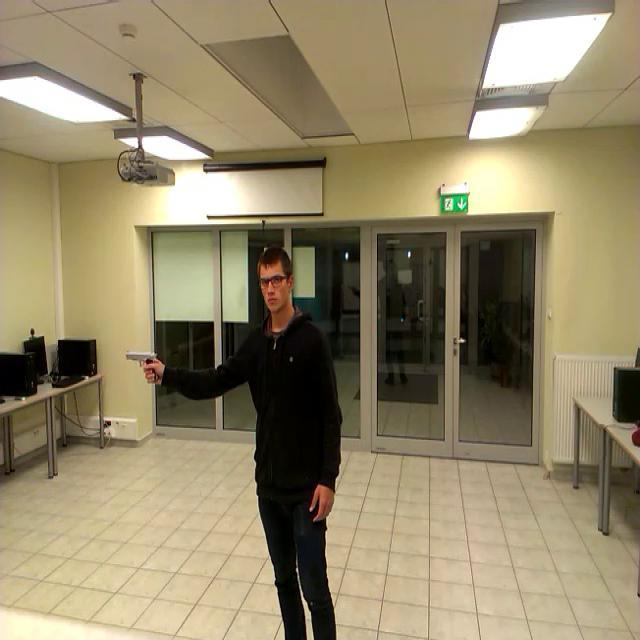Gun: (124, 351, 158, 381)
